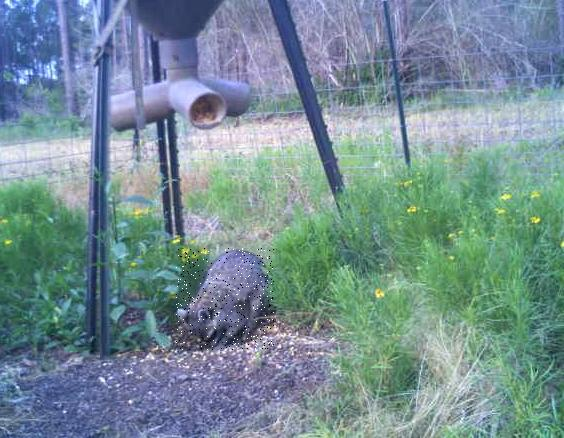Raccoon: (176, 248, 274, 350)
